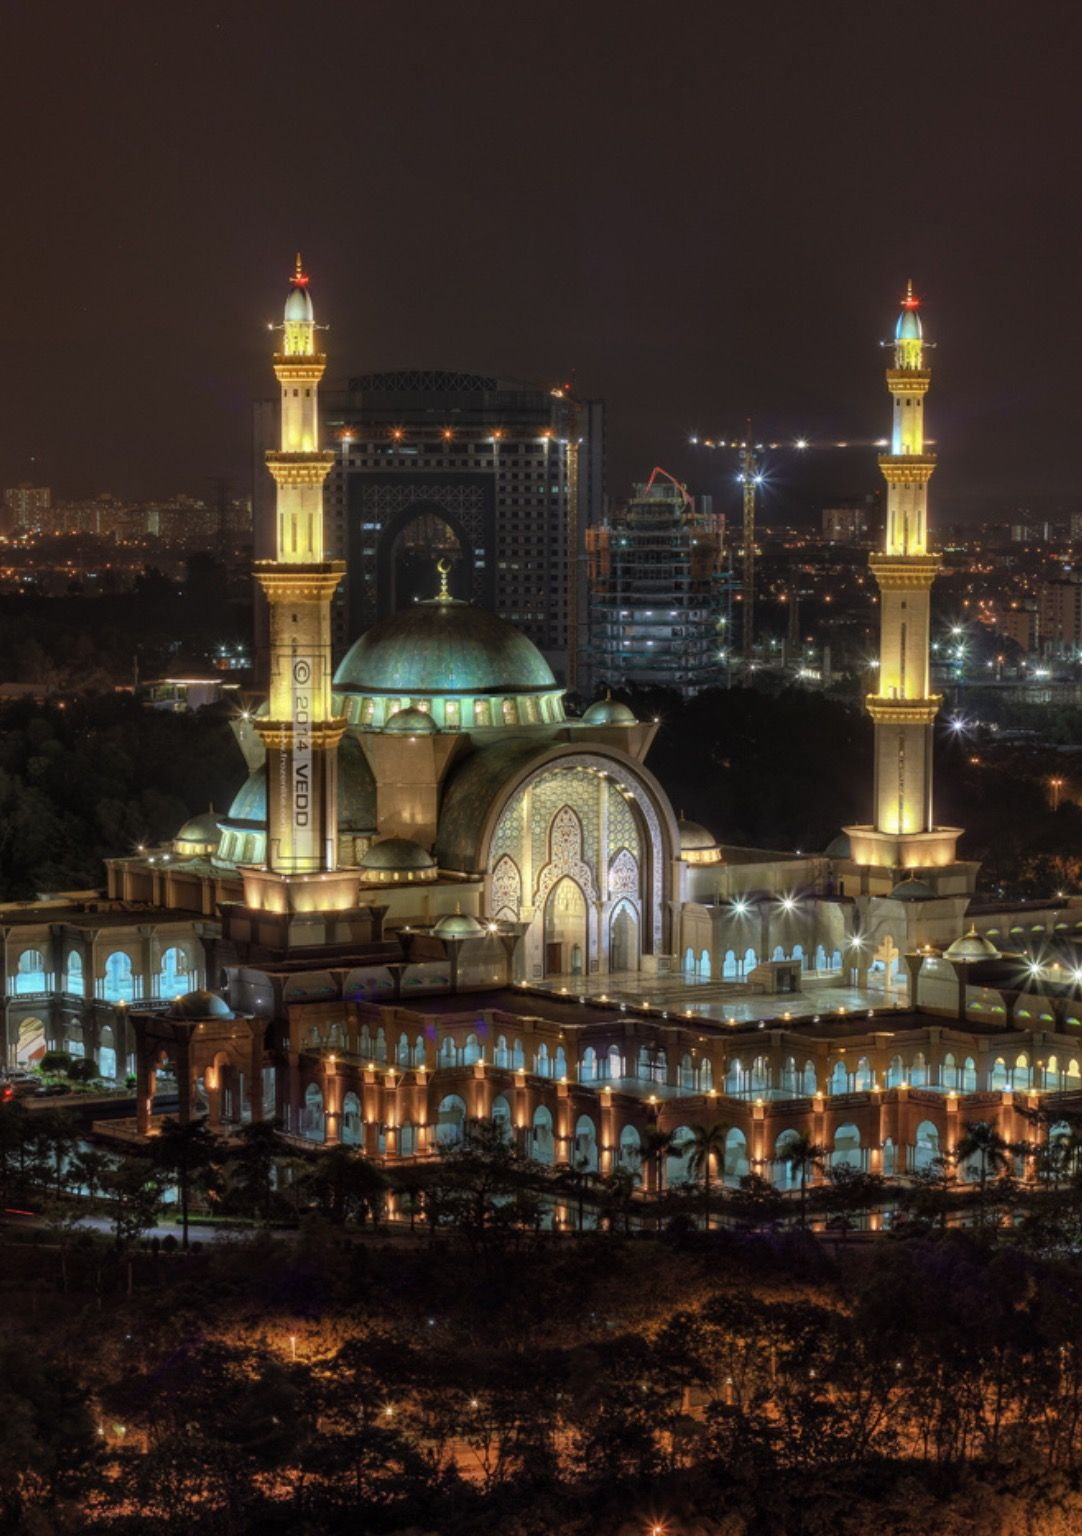Mosque: (146, 241, 980, 990)
